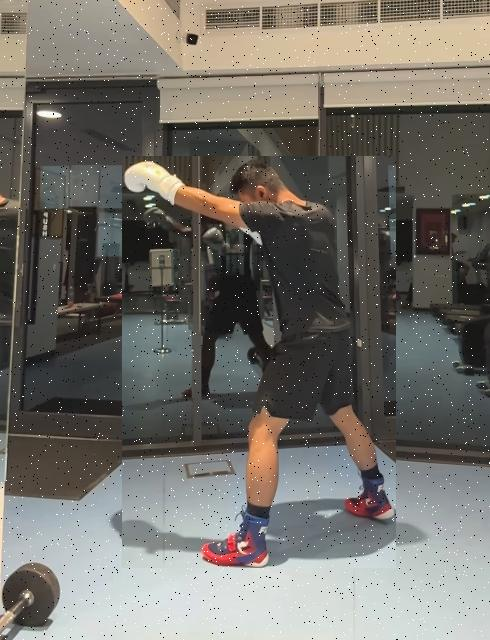punch: (122, 156, 396, 568)
